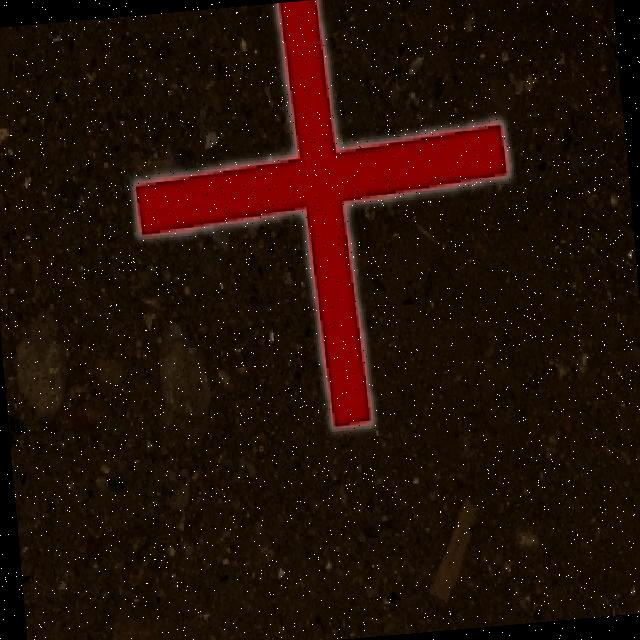x_marker: (119, 0, 527, 441)
